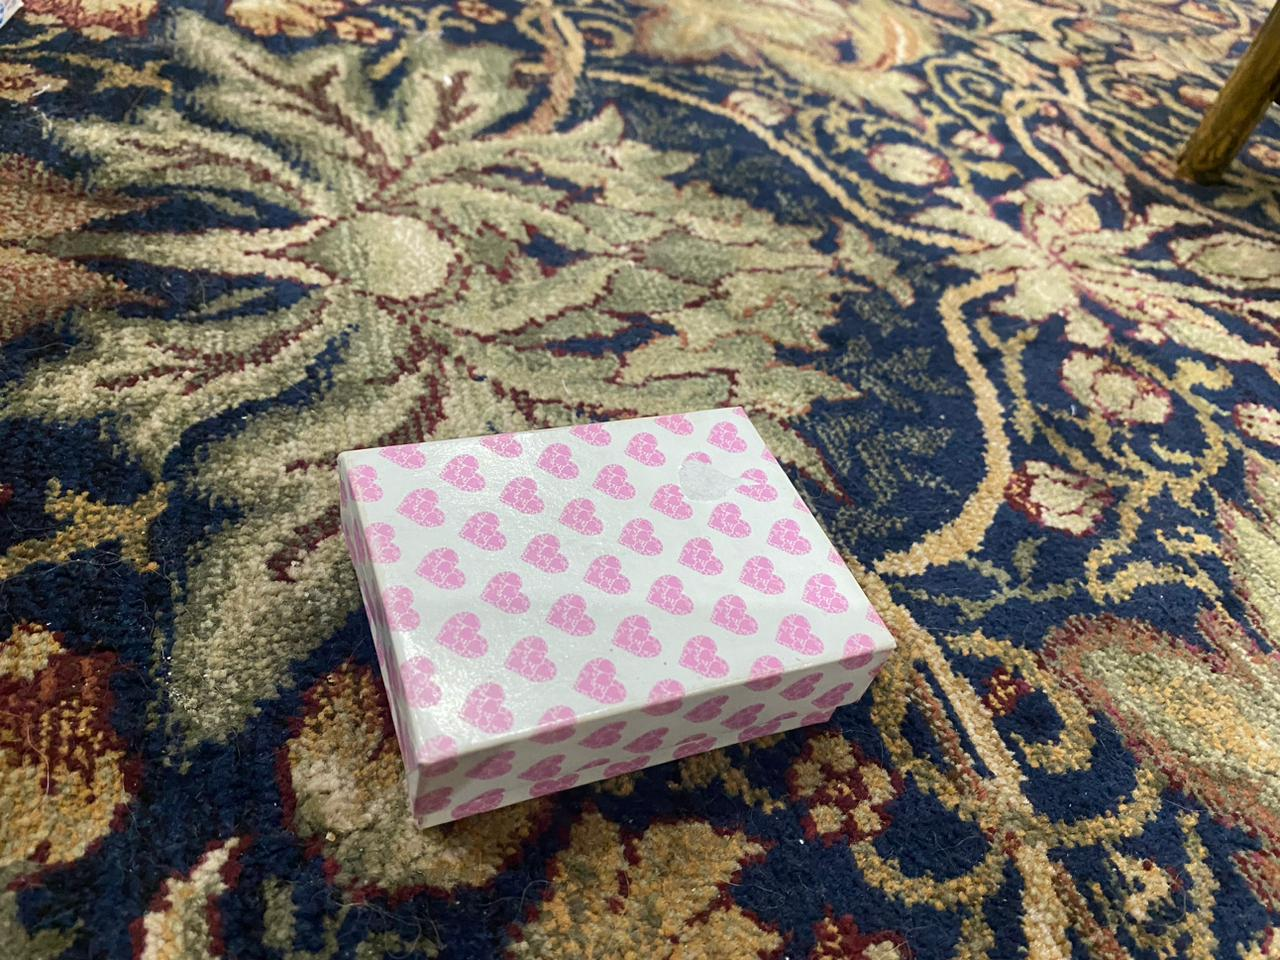Pink Box: (323, 399, 901, 836)
